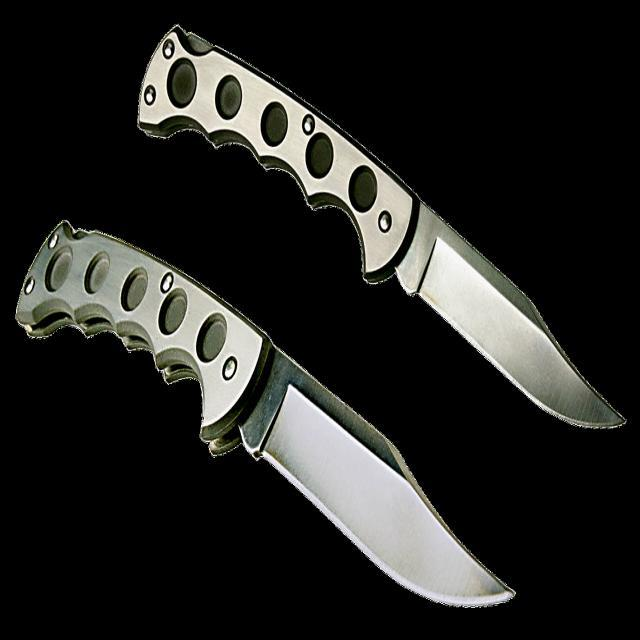Knife: (138, 28, 624, 428), (16, 222, 512, 606)
